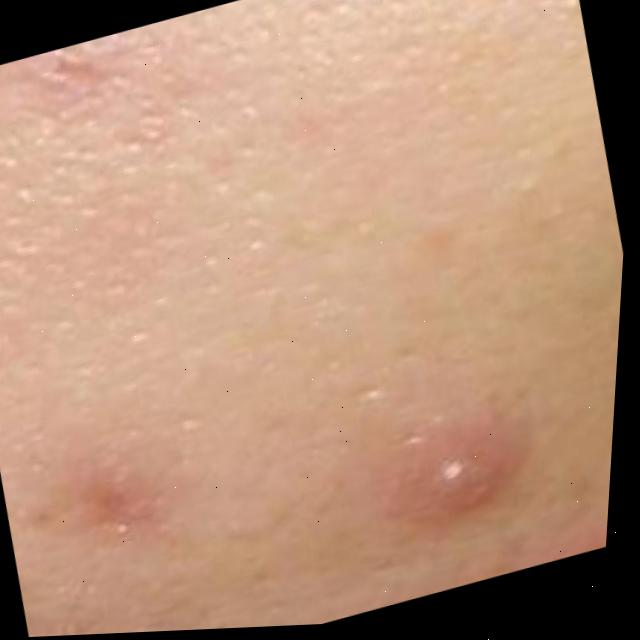Acne: (409, 421, 505, 516), (95, 475, 149, 532)
